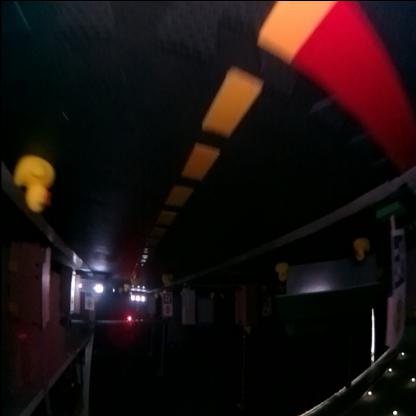Duckie: (18, 155, 52, 209), (354, 241, 368, 261), (277, 262, 287, 280)
Duckiebot: (80, 275, 104, 299), (128, 293, 146, 305)
Traffic light: (127, 314, 132, 320)
